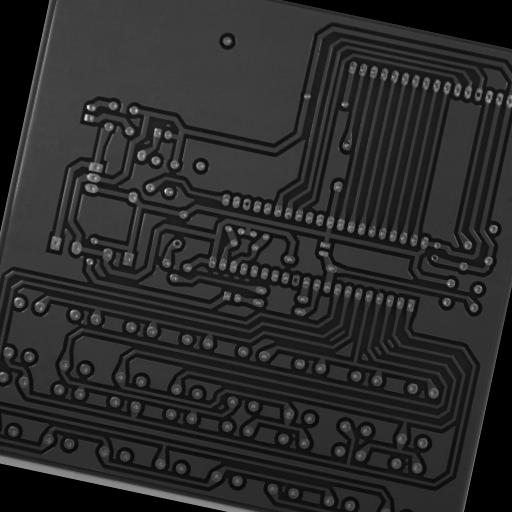missing_hole: (430, 254, 438, 261), (474, 91, 481, 98), (243, 200, 250, 207), (173, 240, 180, 246), (292, 276, 298, 283)
